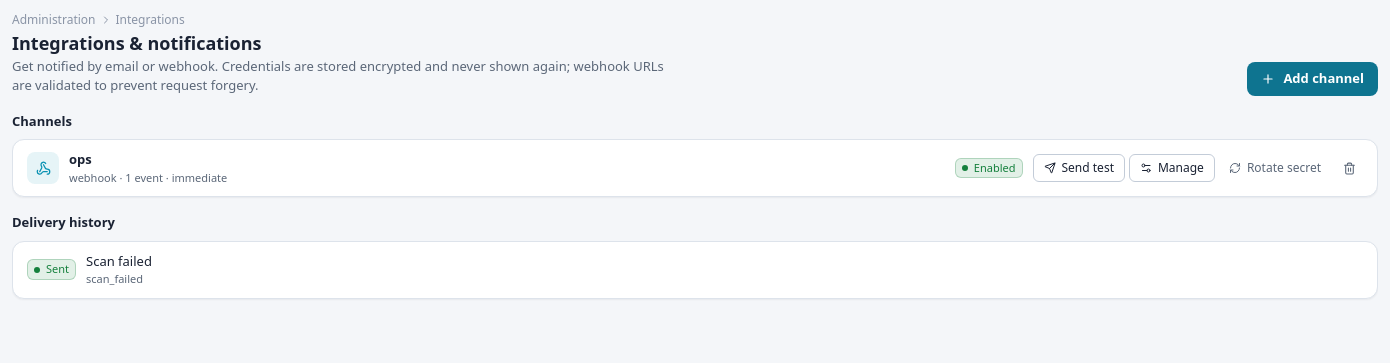
Test: NotificationsPage › lists channels and delivery history and can send a test
Expected: the text "ops" is shown, [69,150,92,168]
Expected: the text "Scan failed" is shown, [86,252,152,270]
Click the button "Send test": (1079, 168) [1032,154,1125,182]
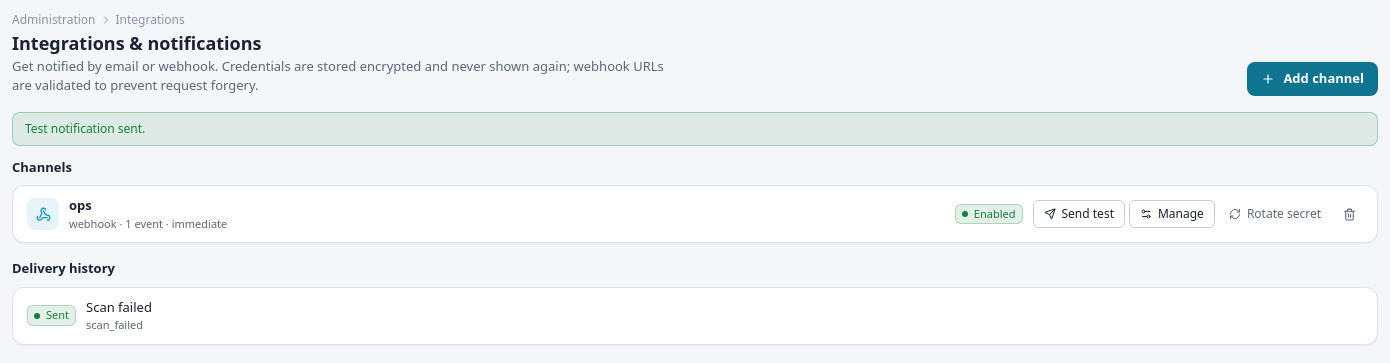
Result: the text "Test notification sent." is shown at [12,112,1378,146]
